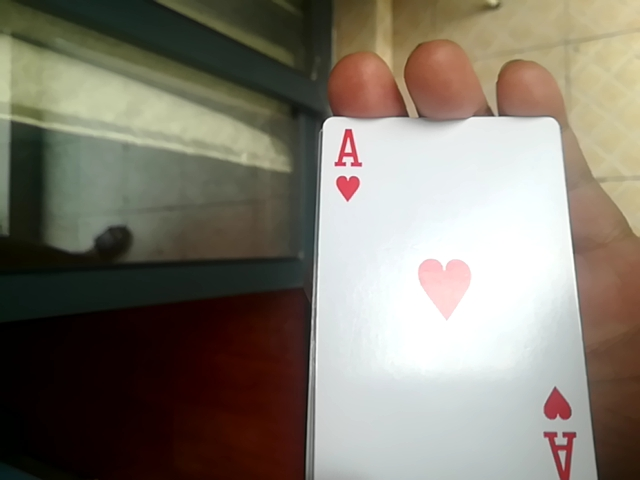hx a: (315, 117, 596, 477)
